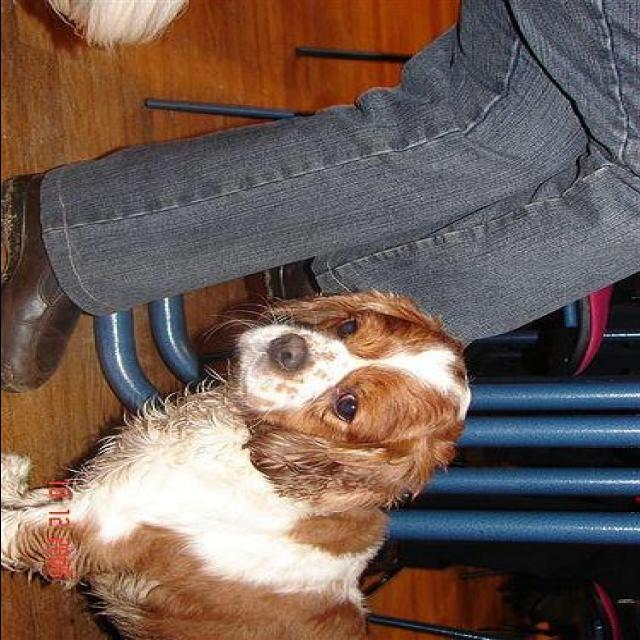blenheim_spaniel: (2, 288, 476, 638)
